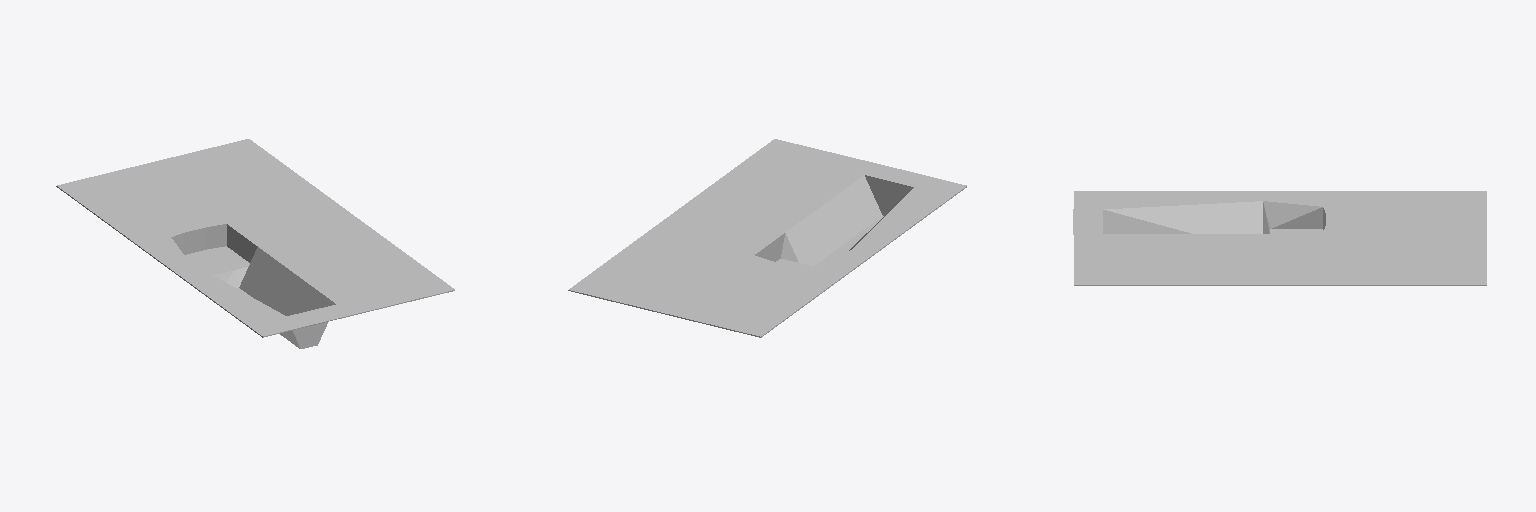
File: board.obj
3 views of the same model, side by side, from view 1: azimuth 30°, elevation 25°; view 2: azimuth 150°, elevation 25°; view 3: azimuth 270°, elevation 25° (orthographic).
Parts seen in each view (by area): view 1: Board_Plane.010; view 2: Board_Plane.010; view 3: Board_Plane.010.
Part boxes in pixels (left/top/right/bottom): Board_Plane.010: left=56, top=139, right=454, bottom=348; Board_Plane.010: left=568, top=139, right=966, bottom=337; Board_Plane.010: left=1073, top=191, right=1486, bottom=285.
Size of the model in its own units: 325 by 59.07 by 604.